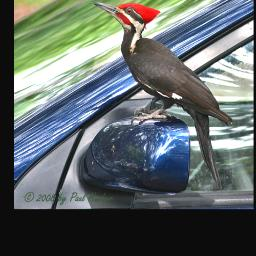Woodpecker: (92, 1, 236, 191)
